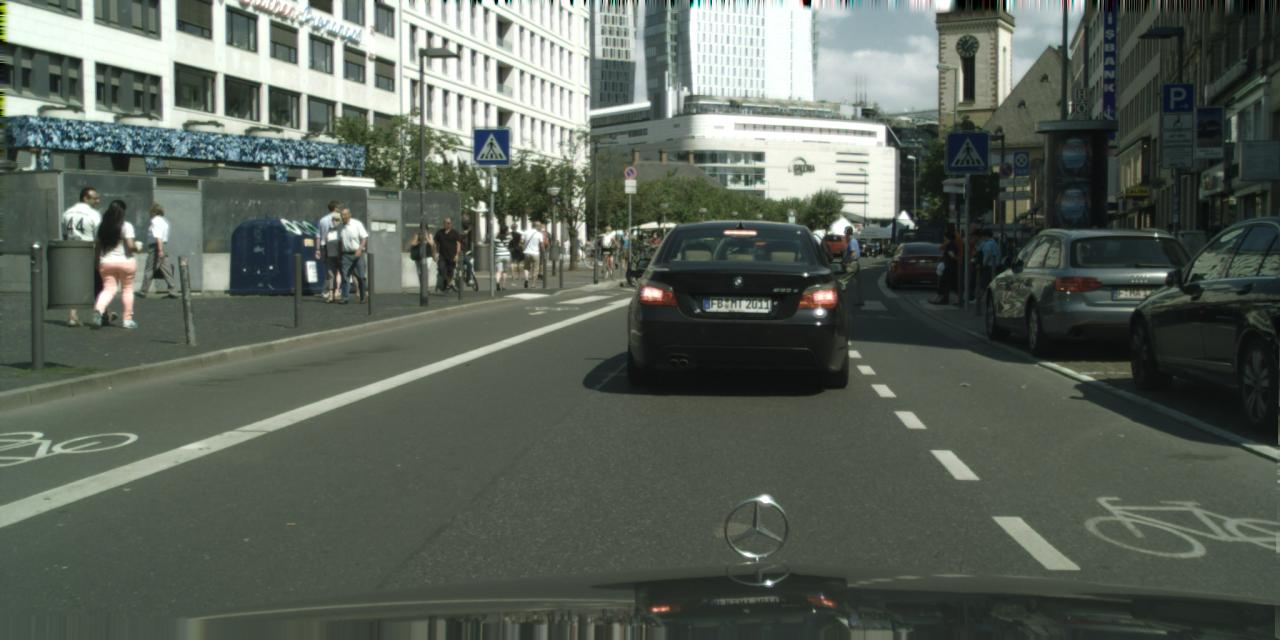ped: (63, 188, 120, 326), (90, 199, 142, 327), (135, 202, 174, 297), (314, 200, 352, 296), (330, 208, 368, 302), (320, 214, 356, 302), (330, 214, 365, 300), (972, 229, 1006, 314), (928, 222, 962, 304), (1153, 224, 1185, 303), (1023, 224, 1055, 303), (801, 222, 832, 302), (834, 223, 864, 299), (929, 229, 959, 304), (432, 217, 462, 291), (959, 229, 989, 302), (955, 228, 984, 300), (410, 220, 439, 292), (488, 223, 516, 290), (520, 220, 546, 288), (452, 220, 477, 282), (503, 222, 526, 279), (530, 224, 552, 280), (618, 227, 634, 269), (599, 225, 615, 266), (610, 233, 624, 268), (648, 232, 662, 266), (561, 238, 570, 260), (874, 239, 881, 257)
